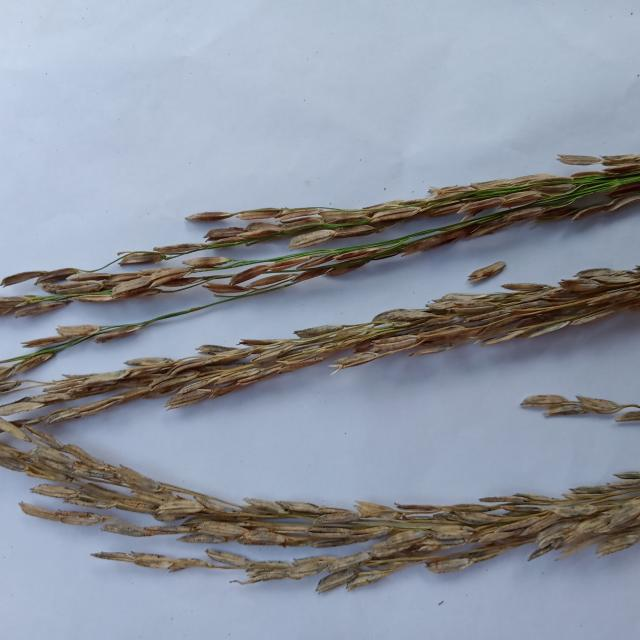Neck_Blast: (3, 264, 638, 432), (0, 159, 637, 323), (5, 425, 640, 582)
